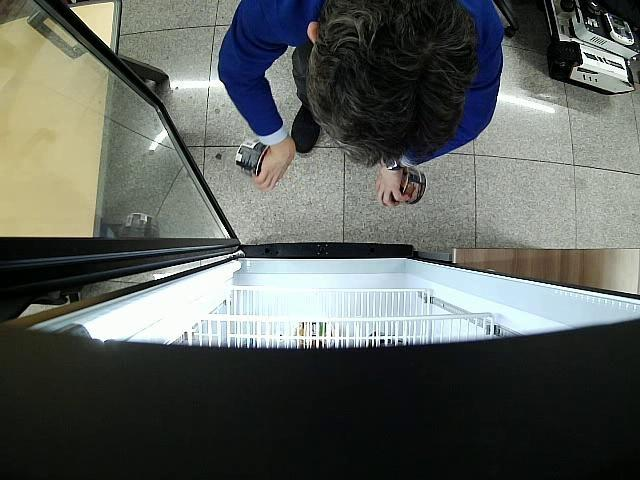07_buldak_L: (236, 138, 269, 176), (399, 164, 426, 204)
